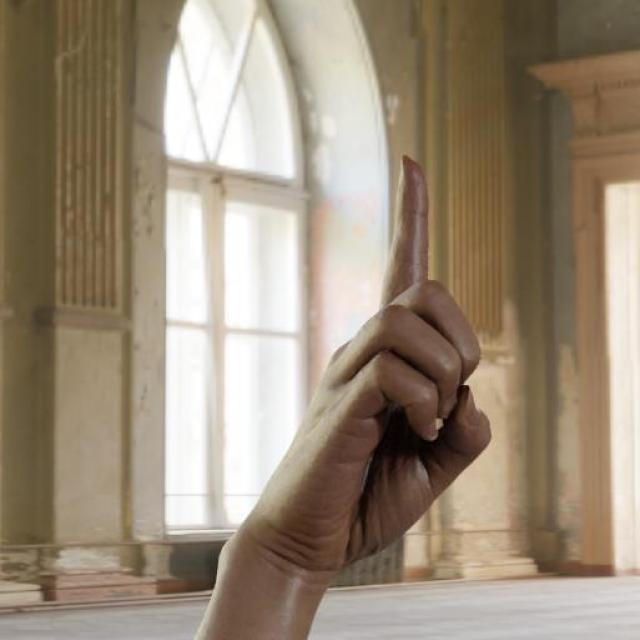D: (211, 148, 496, 584)
